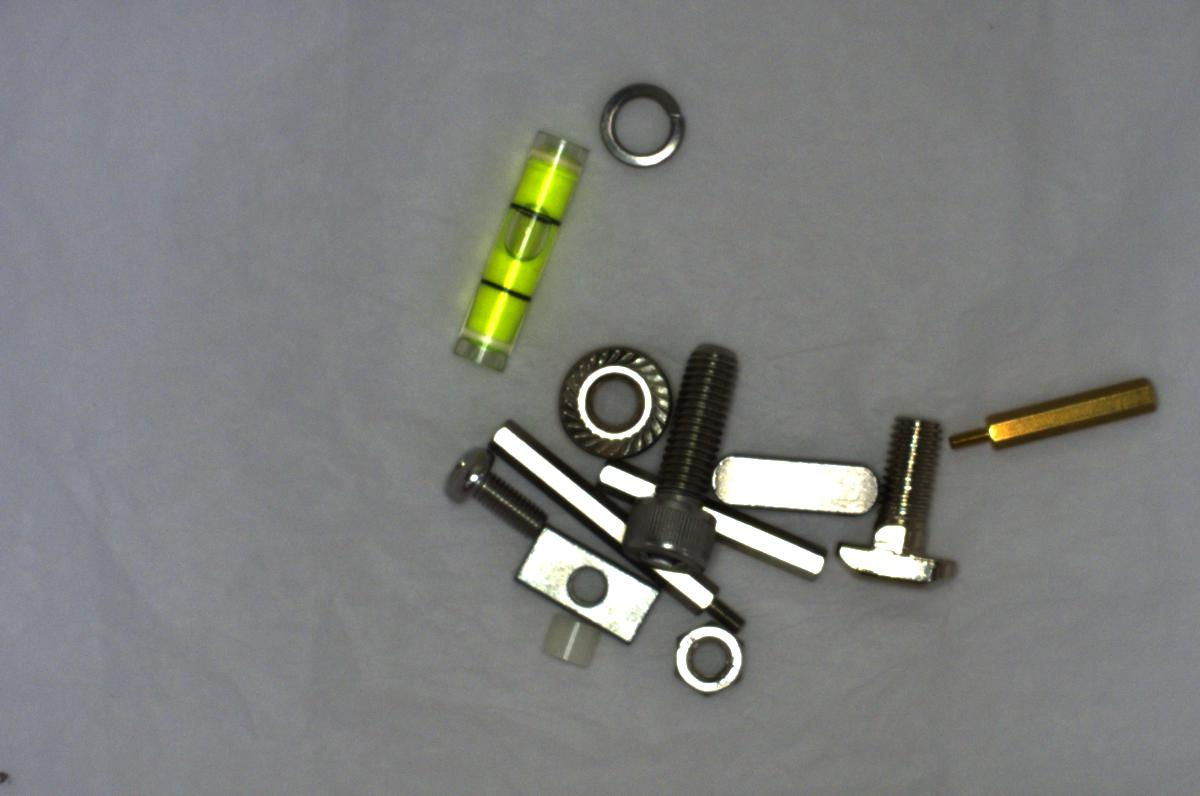Double hexagonal column: (589, 456, 829, 583)
Flange nut: (546, 327, 667, 451)
Hexagon nut: (673, 618, 753, 698)
Hexagon pillar: (938, 355, 1173, 465)
Hexagon screw: (598, 337, 743, 569)
Hexagonal steel column: (480, 418, 753, 635)
Horizontal bubble: (437, 117, 589, 376)
Keybar: (714, 442, 878, 519)
Plastic cushion pillar: (538, 605, 606, 680)
Rectangular nut: (515, 523, 661, 645)
Round head screw: (423, 441, 552, 545)
Spring washer: (592, 77, 694, 176)
T-shaped screw: (816, 409, 958, 595)
